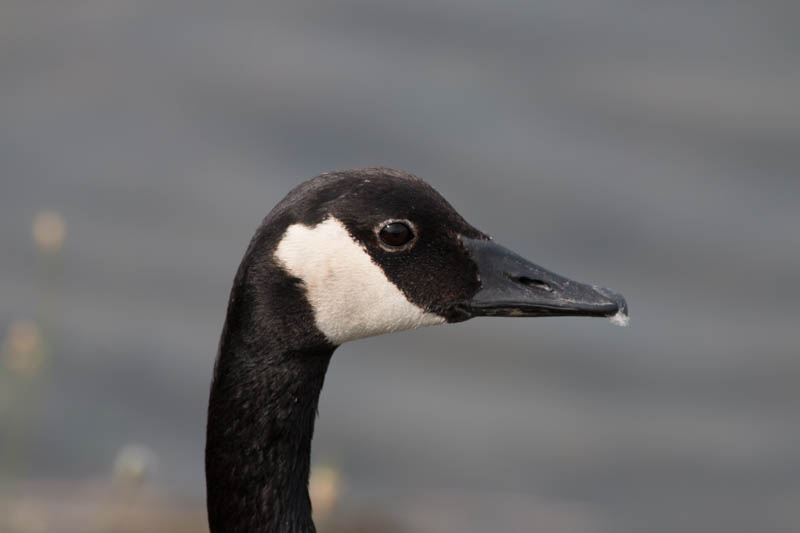goose-head: (231, 169, 628, 354)
